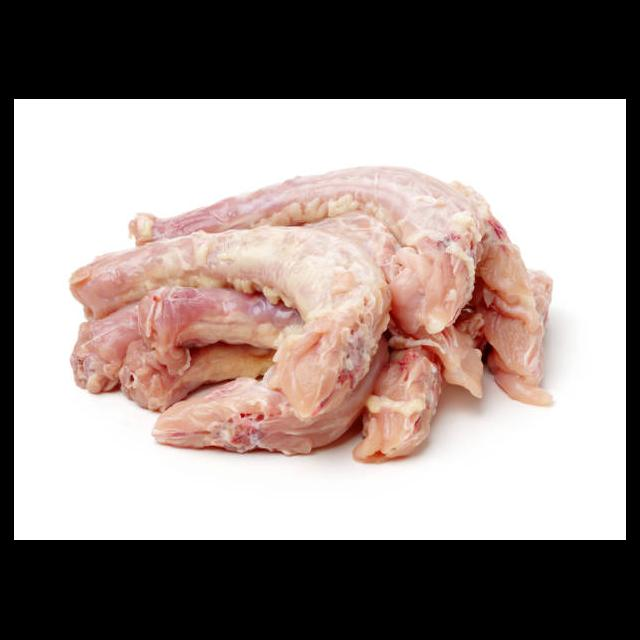chicken: (69, 230, 395, 458), (129, 163, 486, 330)
